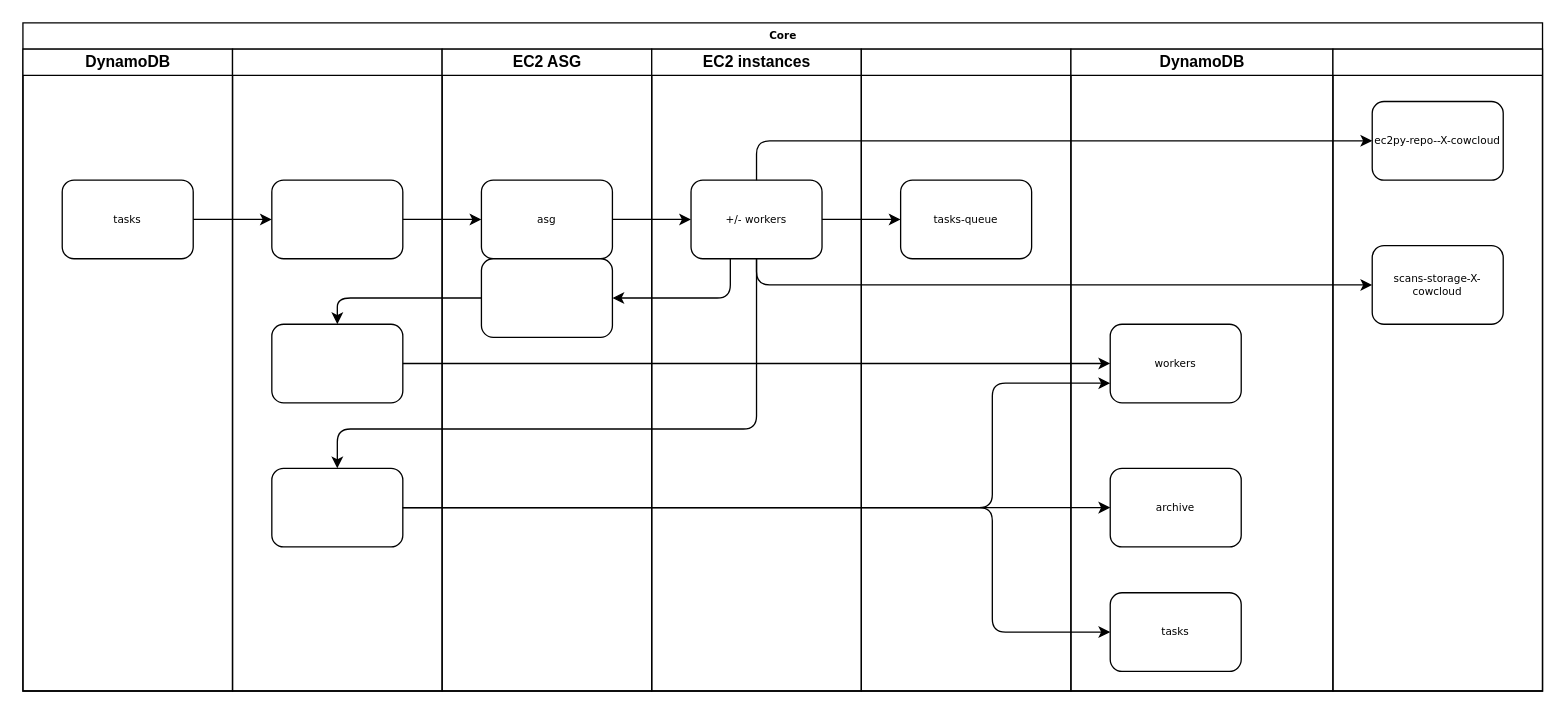
The diagram is 1565 pixels wide and 714 high, and some of its shapes have lost their labels. The shapes that lost their labels are listed below. From the top down, each one's box as (x1, y1, x2, y2) in pixels, then its label:
(271, 179, 403, 259): dynamodbTableUpdates
(480, 257, 612, 337): lifecycle hook
(231, 48, 442, 691): Lambda F.
(271, 323, 403, 403): lifecycleManager
(860, 48, 1071, 691): SQS
(1332, 48, 1543, 691): S3 Bucket
(271, 467, 403, 547): workers_manager
